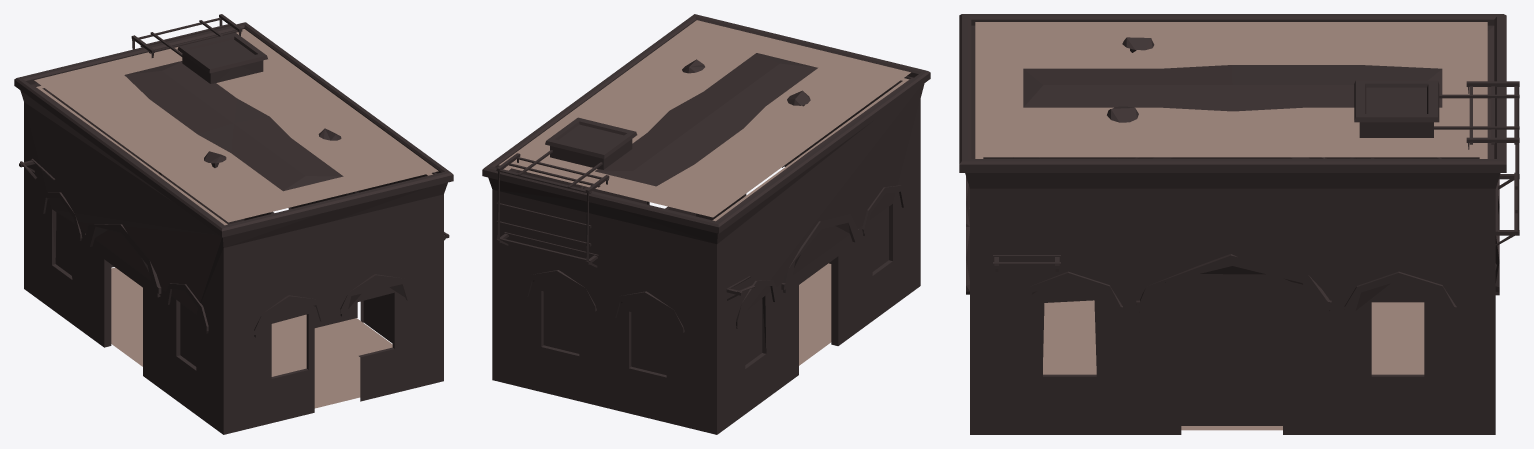
The model's file is brick-substation.access-v6.lod2.glb.
The picture shows the model from 3 angles, left to right: view 1: azimuth 30°, elevation 25°; view 2: azimuth 150°, elevation 25°; view 3: azimuth 270°, elevation 25°; orthographic projection. The views are drawn at different scales.
Parts seen in each view (by area): view 1: BrickSubstation00__0; view 2: BrickSubstation00__0; view 3: BrickSubstation00__0.
Part boxes in pixels (x1,y1,x2,y2): BrickSubstation00__0: (14, 14, 453, 434); BrickSubstation00__0: (482, 14, 930, 434); BrickSubstation00__0: (959, 14, 1519, 434).
Size of the model in its own units: 7.1 by 6.16 by 10.5.
